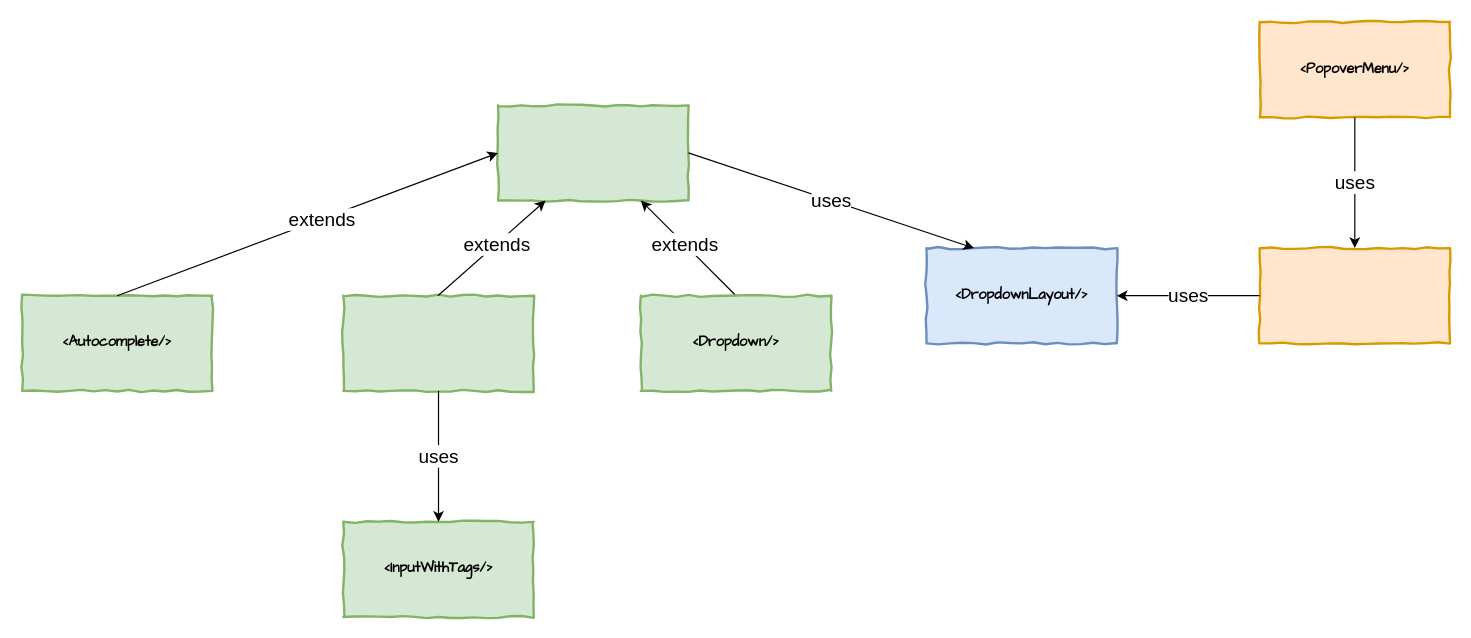
The diagram is 1471 pixels wide and 638 high, and some of its shapes have lost their labels. The centre of each missing label's shape, as x and y in pixels:
<DropdownBase/>: the point at 1354,295
<InputWithOptions/>: the point at 592,152
<MultiSelect/>: the point at 438,343
